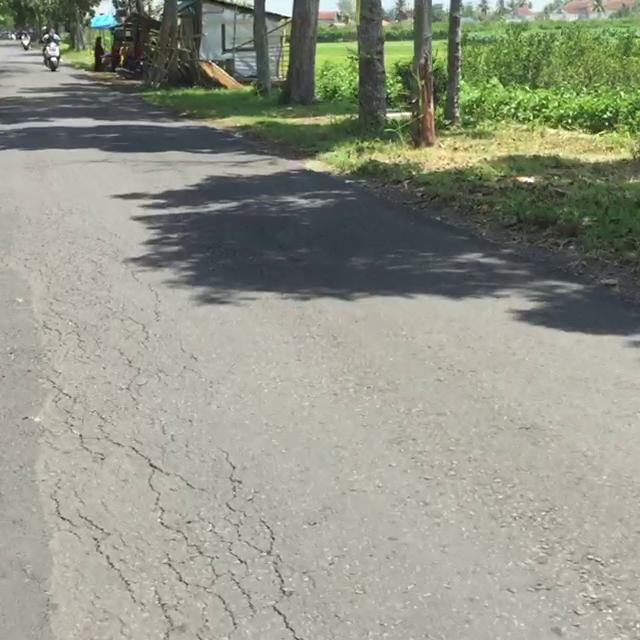retak_kulit_buaya: (0, 222, 284, 640)
